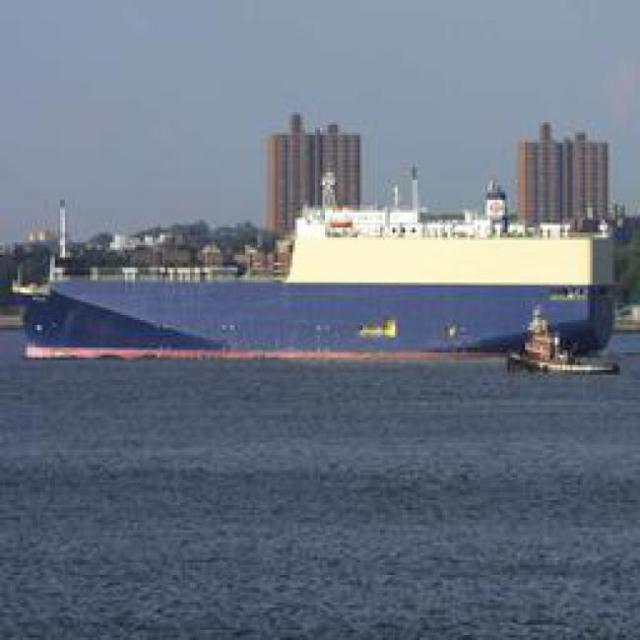boat: (22, 226, 620, 378)
